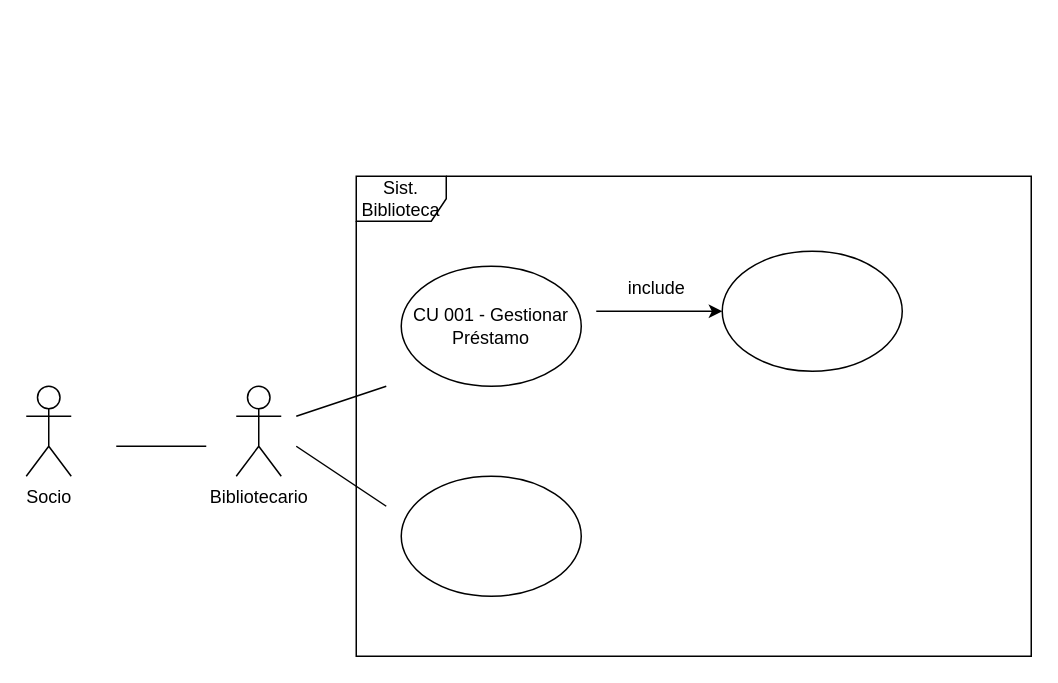
Image size: 1058x683. Some labels were removed from this diagram. The centre of each missing label's shape, as x and y in pixels:
"CU 003 - Reservar Ejemplar" goes at (490,535).
"CU 004 - Seleccionar Ejemplares" goes at (811,310).
